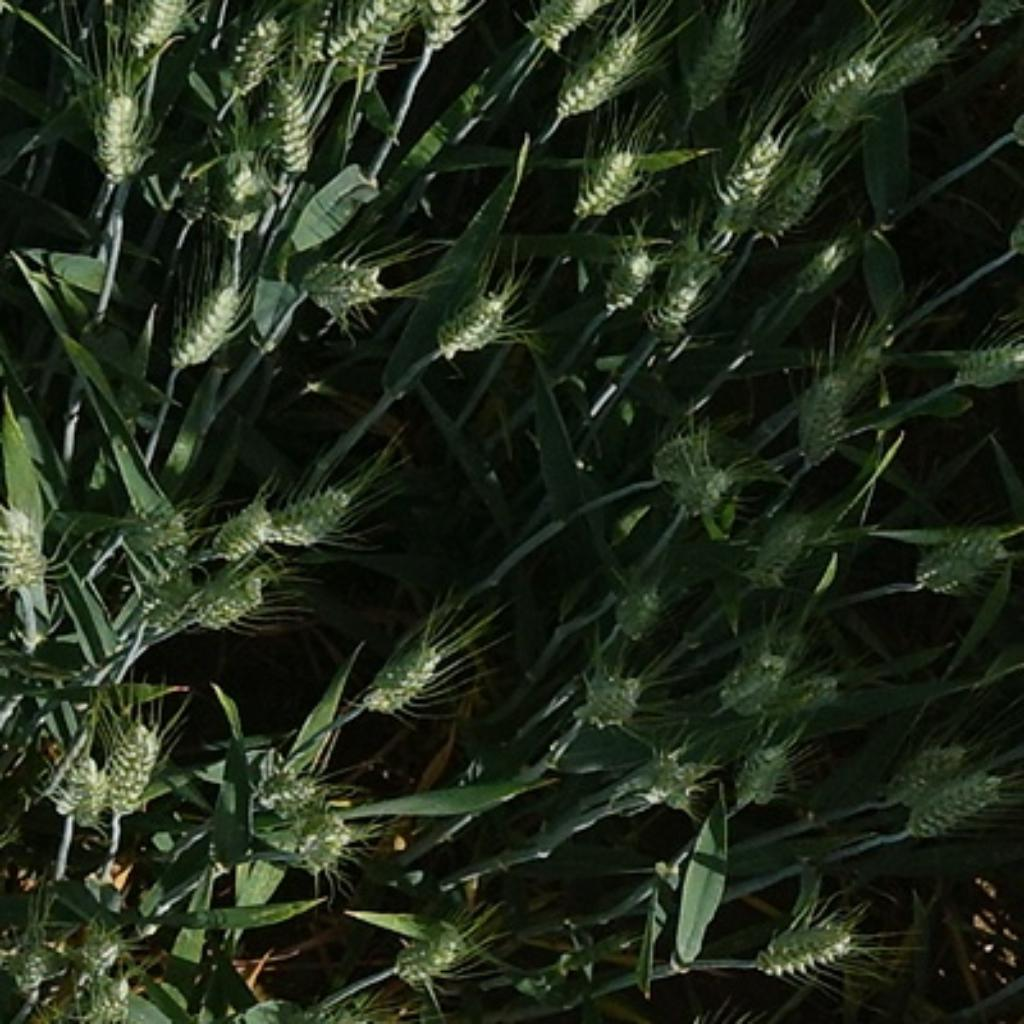0-0: (158, 261, 253, 371), (793, 327, 919, 409), (552, 23, 652, 117), (704, 117, 783, 235), (906, 514, 1018, 596), (81, 61, 153, 186), (752, 911, 870, 980), (675, 2, 752, 107), (796, 40, 896, 116), (357, 627, 446, 711), (433, 286, 525, 367), (332, 2, 427, 79), (568, 135, 652, 222), (614, 742, 714, 814), (294, 243, 386, 320), (903, 773, 1012, 837), (391, 911, 481, 988), (217, 2, 291, 92), (650, 250, 727, 335), (780, 380, 846, 478), (196, 565, 288, 634), (762, 161, 839, 243), (102, 723, 166, 818), (565, 655, 647, 727), (265, 490, 353, 554), (727, 732, 801, 808), (209, 153, 273, 238), (279, 64, 322, 189), (291, 798, 360, 872), (118, 495, 199, 558), (762, 668, 860, 719), (879, 26, 949, 96), (732, 632, 788, 716), (522, 2, 599, 61), (1, 503, 49, 594), (7, 934, 66, 1008), (749, 523, 812, 592), (891, 746, 964, 805), (122, 2, 186, 69), (250, 755, 320, 816), (602, 237, 652, 320), (952, 341, 1023, 397), (412, 2, 471, 69), (674, 464, 746, 518), (651, 437, 723, 491), (136, 567, 198, 628), (214, 493, 273, 552), (59, 760, 105, 830), (168, 171, 222, 227), (614, 580, 665, 638), (296, 2, 330, 74), (86, 973, 134, 1024), (81, 924, 125, 973)
